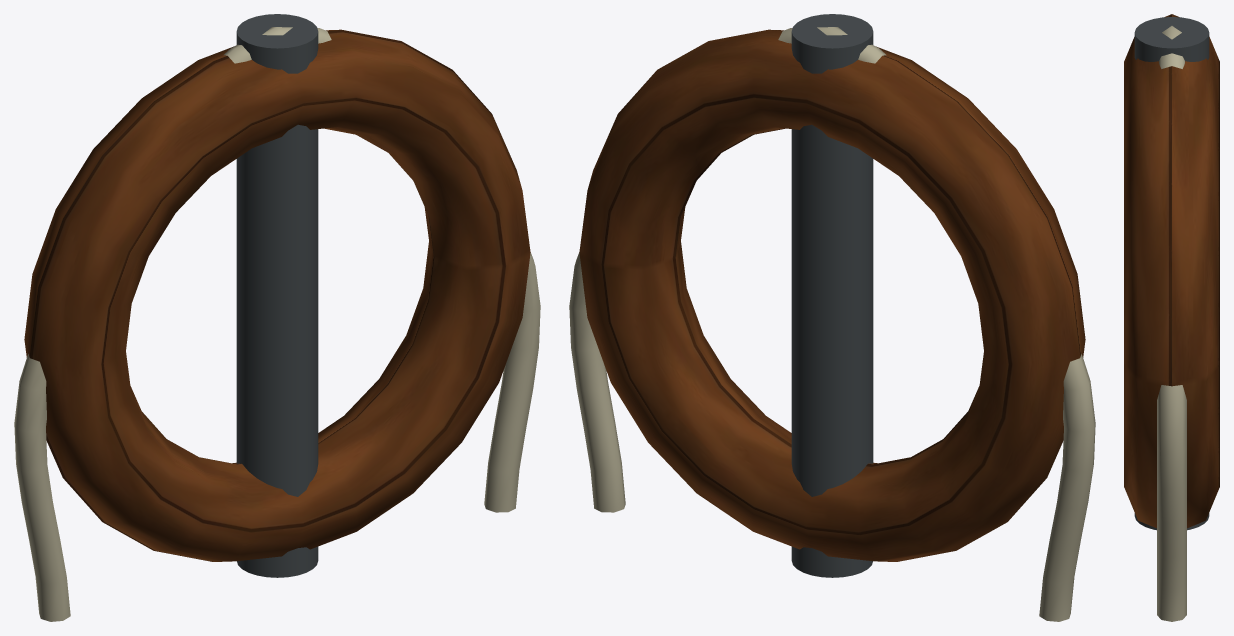
The model's file is undercity-sewers-and-thieves-den-rope-pulley-76ccb93d__27220.glb.
The picture shows the model from 3 angles, left to right: view 1: azimuth 30°, elevation 25°; view 2: azimuth 150°, elevation 25°; view 3: azimuth 270°, elevation 25°; orthographic projection. The views are drawn at different scales.
Parts seen in each view (by area): view 1: rope-pulley; view 2: rope-pulley; view 3: rope-pulley.
Boxes of the visible parts, x1,y1,x2,y2 form: rope-pulley: (14,14,540,621); rope-pulley: (569,14,1095,621); rope-pulley: (1124,14,1219,621).
Bounding box in the file's own units: 0.517 × 0.5045 × 0.09.
3 materials, 1 textured.
